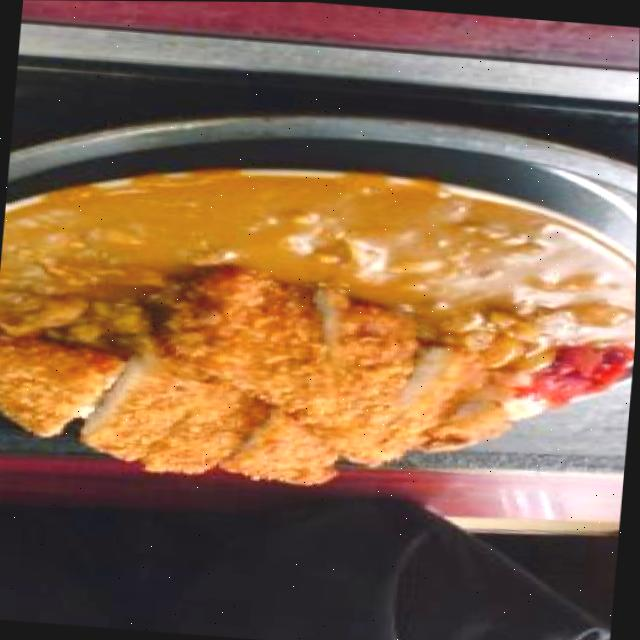猪肉菜式: (0, 70, 639, 524)
